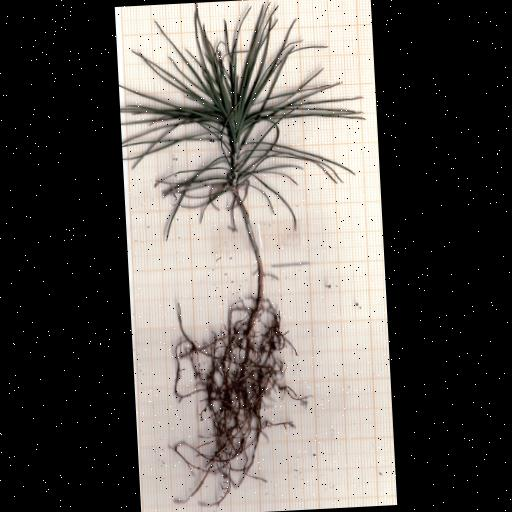flowerCedr: (120, 3, 362, 220)
rootCedr: (174, 299, 306, 506)
stemCedr: (234, 192, 265, 311)
